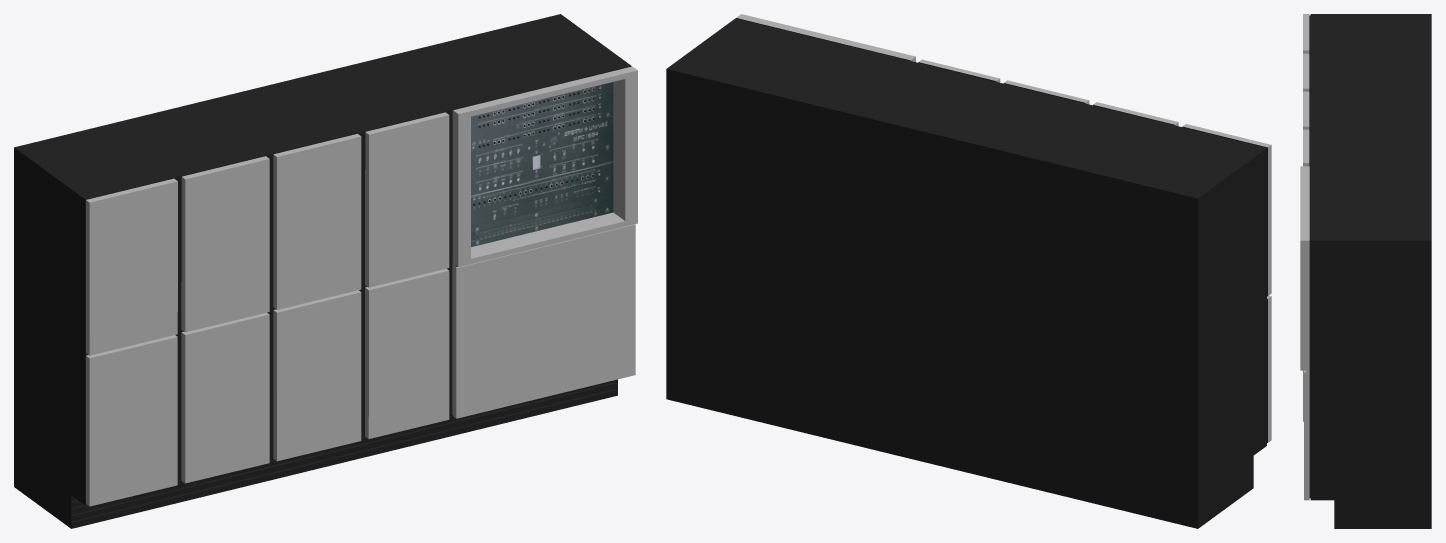
The model's file is Univac_Armoire_Serveurs.glb.
3 views of the same model, side by side, from view 1: azimuth 30°, elevation 25°; view 2: azimuth 150°, elevation 25°; view 3: azimuth 270°, elevation 25° (orthographic). The views are drawn at different scales.
Visible parts, largest first — view 1: Plane.002; view 2: Plane.002; view 3: Plane.002.
Part boxes in pixels (x1,y1,x2,y2): Plane.002: [14, 14, 637, 528]; Plane.002: [666, 14, 1271, 528]; Plane.002: [1300, 14, 1431, 528].
Bounding box in the file's own units: 3.97 × 2.36 × 0.9696.
3 materials, 1 textured.
